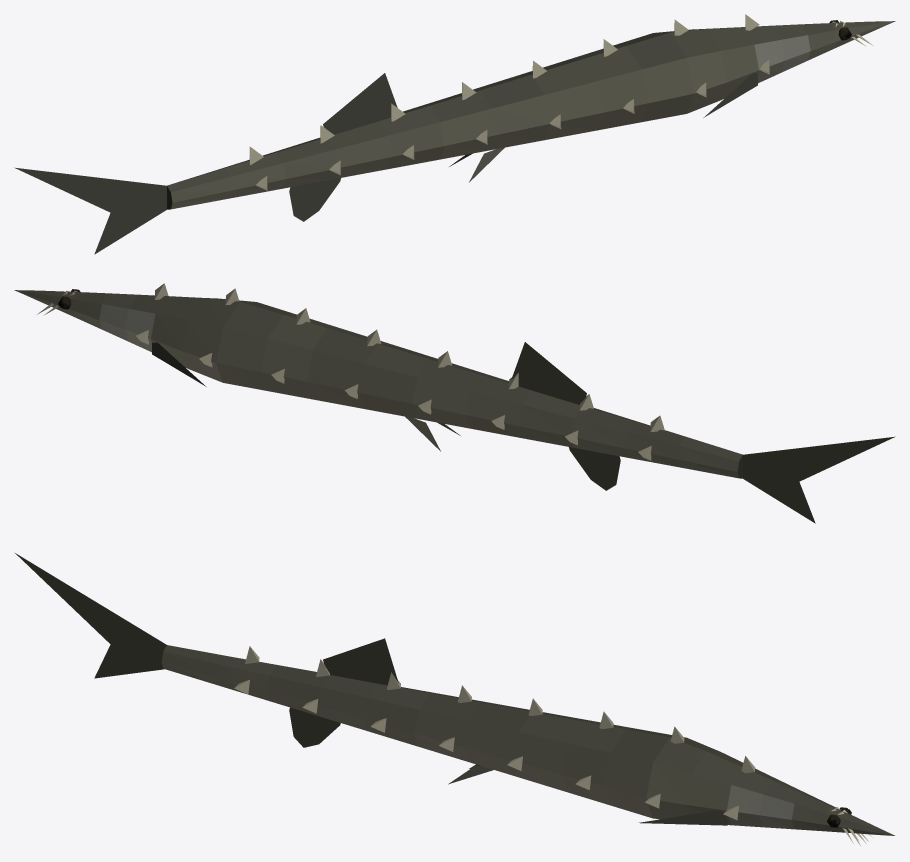
File: lake-sturgeon.glb
3 renders of one model, top to bottom at view 1: azimuth 30°, elevation 25°; view 2: azimuth 150°, elevation 25°; view 3: azimuth 330°, elevation 25°, orthographic.
Parts seen in each view (by area): view 1: lake-sturgeon; view 2: lake-sturgeon; view 3: lake-sturgeon.
Boxes of the visible parts, left/top/right/bottom form: lake-sturgeon: left=14, top=14, right=895, bottom=254; lake-sturgeon: left=14, top=283, right=895, bottom=523; lake-sturgeon: left=15, top=553, right=894, bottom=845.
Size of the model in its own units: 1.21 by 0.1697 by 0.1559.
